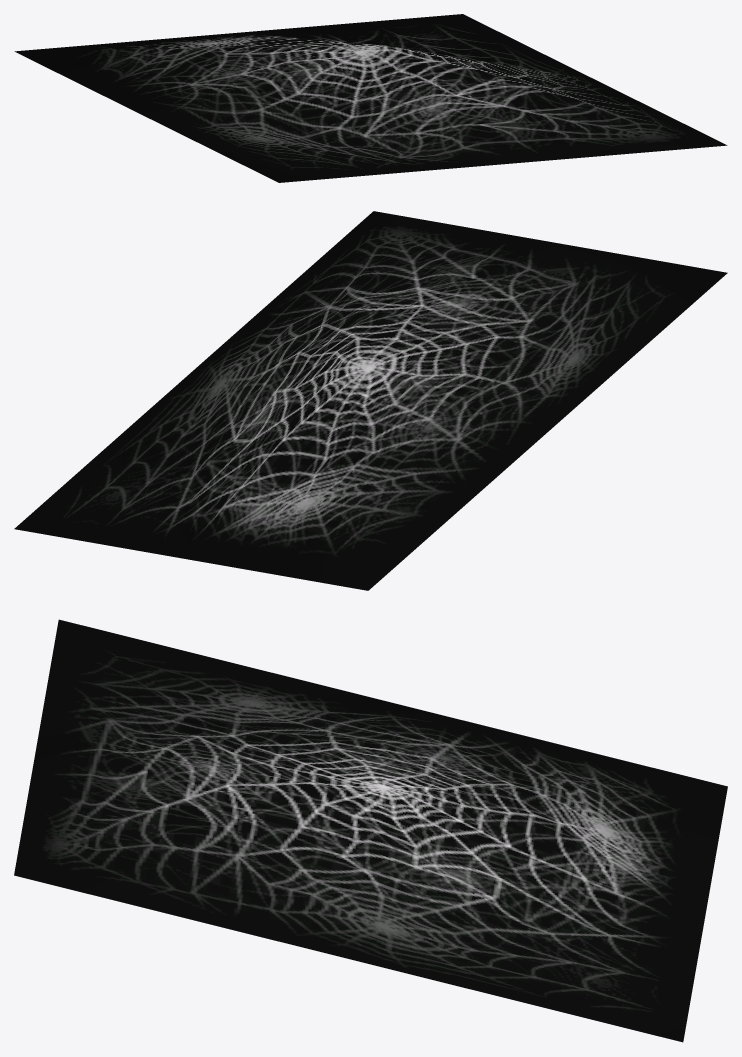
The model's file is MIRKWOOD_PLANE26.fbx.
3 renders of one model, top to bottom at view 1: azimuth 30°, elevation 25°; view 2: azimuth 150°, elevation 25°; view 3: azimuth 270°, elevation 25°, orthographic. The views are drawn at different scales.
Visible parts, largest first — view 1: MIRKWOOD_PLANE26; view 2: MIRKWOOD_PLANE26; view 3: MIRKWOOD_PLANE26.
Part boxes in pixels (x1,y1,x2,y2): MIRKWOOD_PLANE26: (14,14,727,182); MIRKWOOD_PLANE26: (14,211,727,590); MIRKWOOD_PLANE26: (14,619,727,1042).
Bounding box in the file's own units: 143561 × 50395 × 179492.
Materials: 1 (1 with a texture image).
